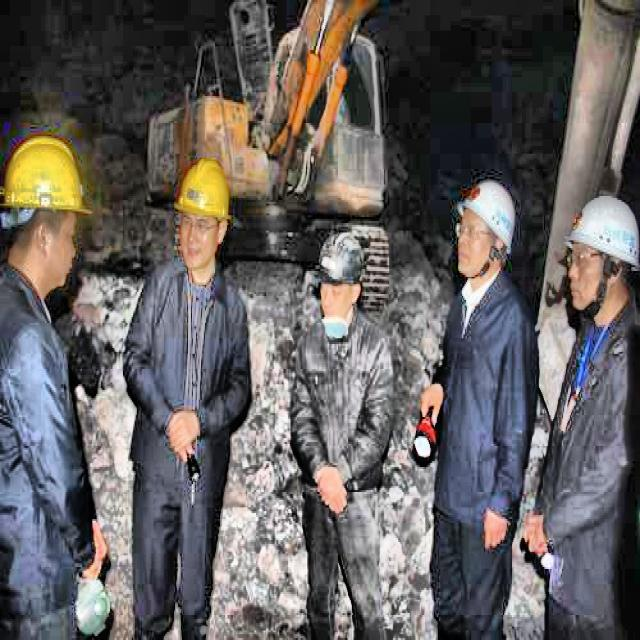helmet: (1, 125, 90, 290), (564, 188, 638, 314), (170, 152, 234, 275), (456, 173, 521, 279), (308, 225, 370, 323)
